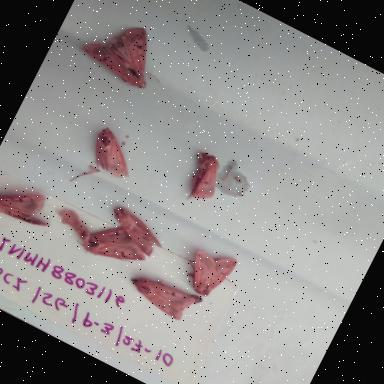abw: (118, 260, 211, 336), (92, 197, 178, 266), (70, 210, 152, 280), (170, 234, 244, 309), (74, 118, 150, 188), (167, 142, 237, 216), (0, 168, 64, 242)
